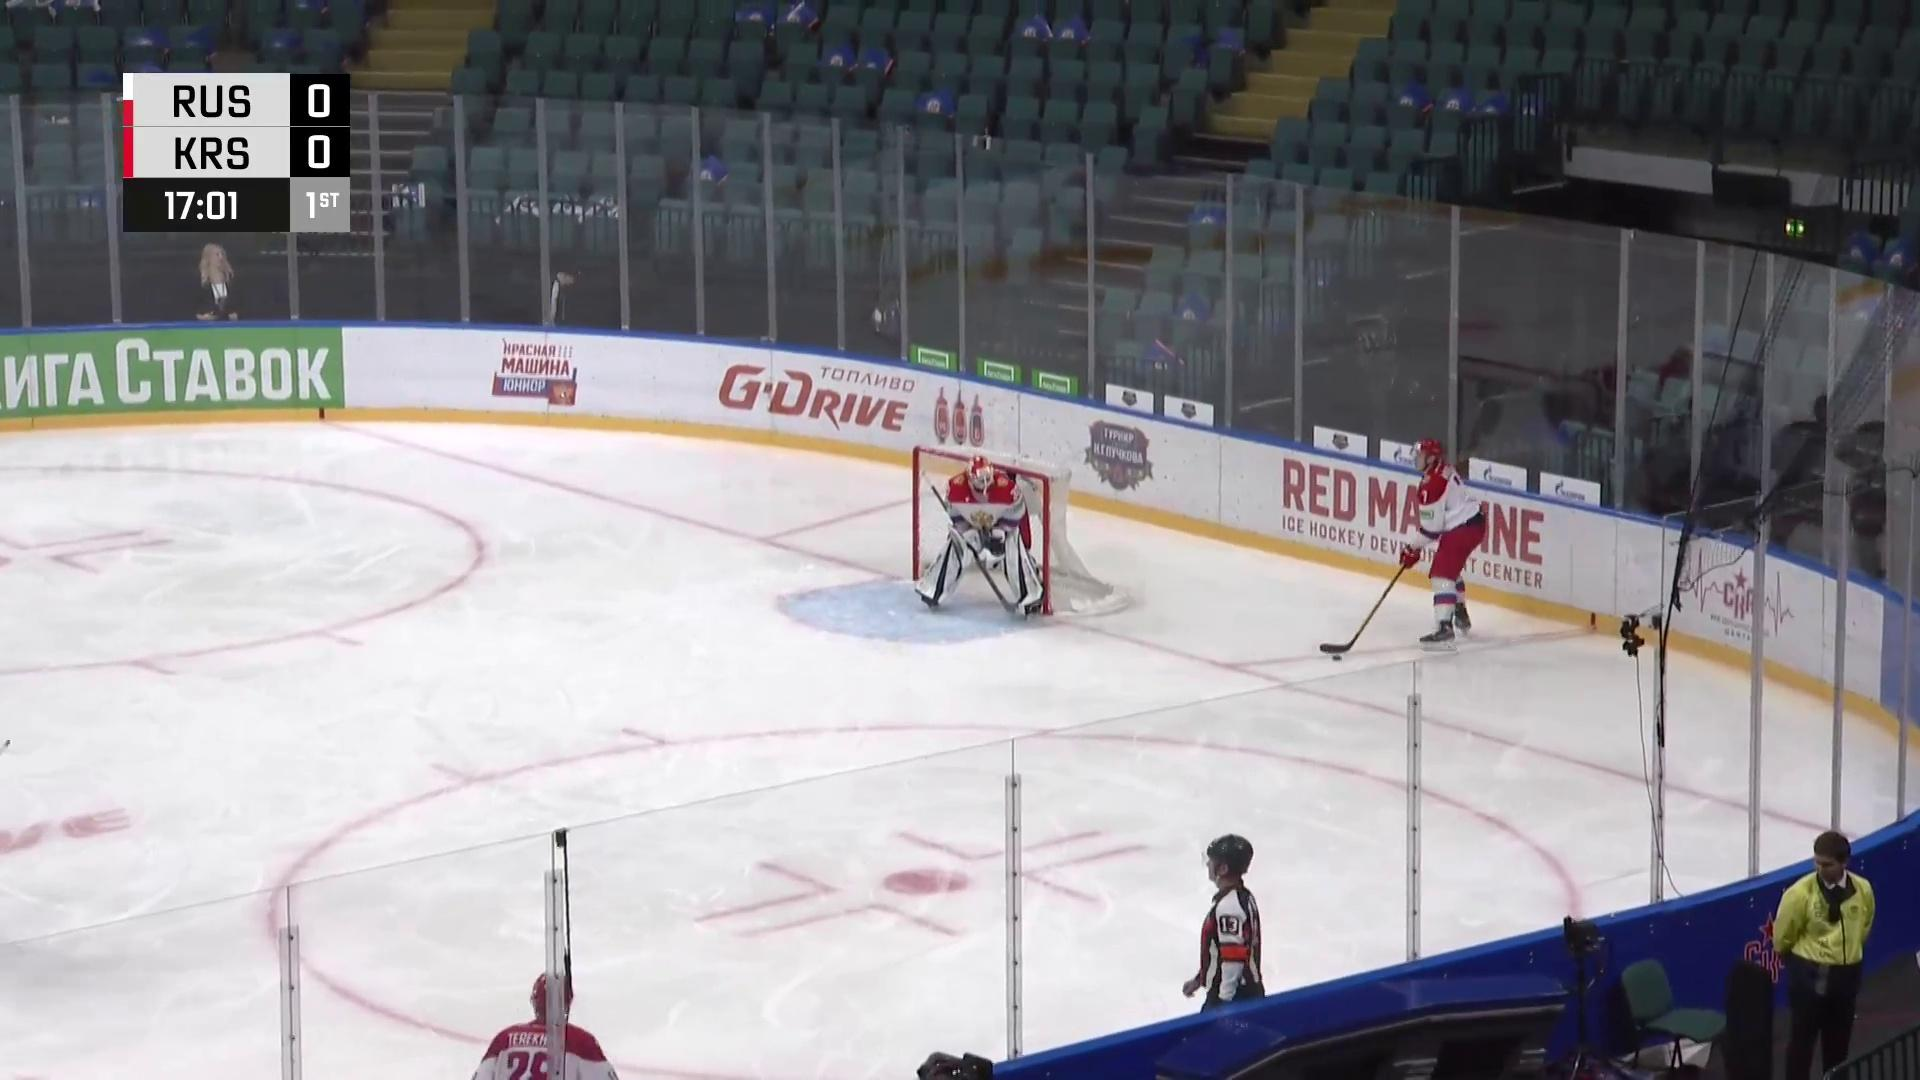ball: (1331, 653, 1345, 665)
